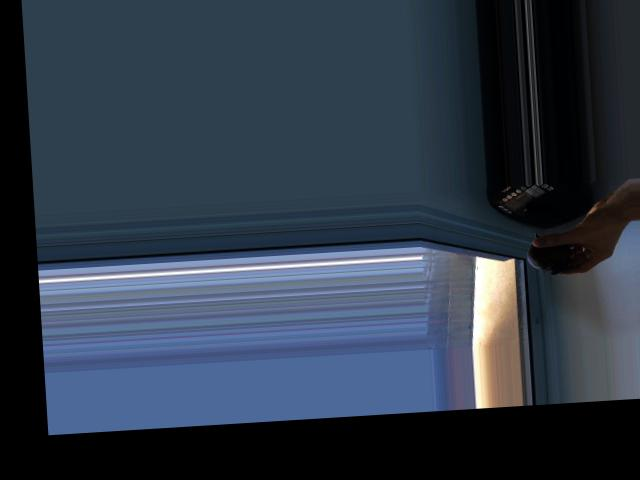beet: (525, 229, 576, 276)
